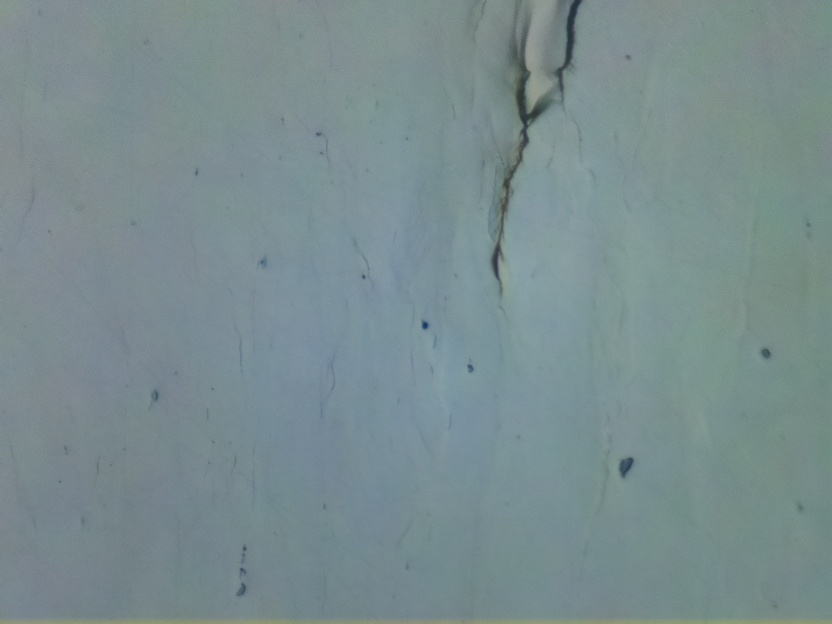crack: (491, 0, 585, 293)
